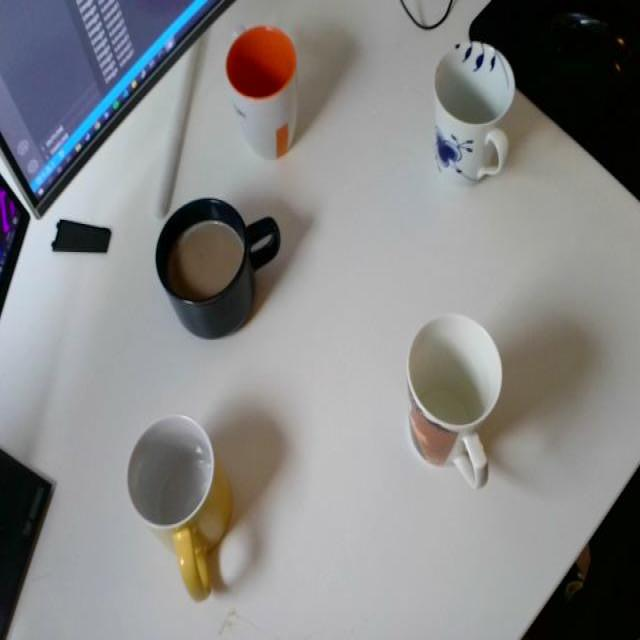cup: (118, 408, 248, 604), (150, 195, 289, 345), (401, 305, 511, 492), (429, 37, 521, 198), (224, 23, 316, 167)
